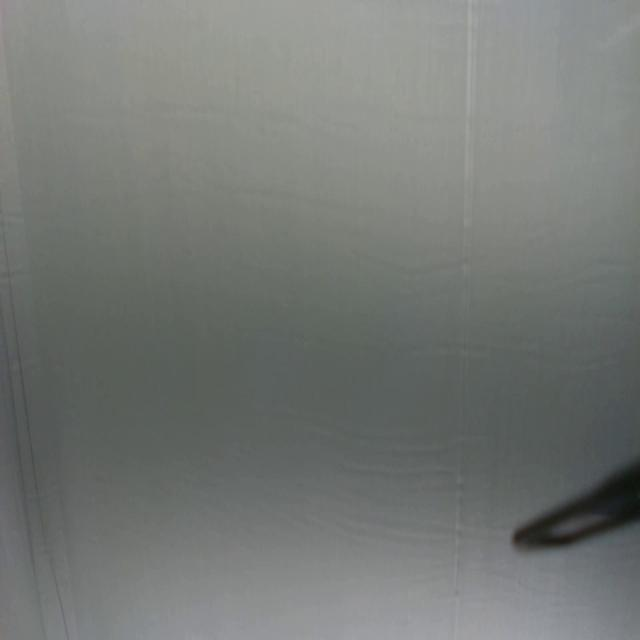crease: (0, 173, 70, 639), (450, 0, 479, 639)
